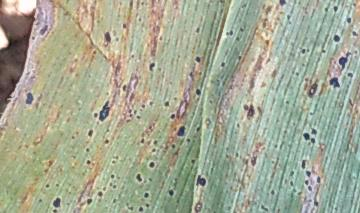tarspot: (99, 101, 111, 120), (339, 50, 350, 70), (327, 76, 341, 89), (196, 173, 206, 187), (247, 103, 255, 120), (25, 92, 33, 106), (39, 25, 49, 36), (103, 31, 112, 43), (176, 125, 185, 137), (134, 172, 144, 182), (259, 203, 269, 213), (52, 197, 61, 208), (332, 34, 341, 43), (193, 54, 201, 63), (346, 70, 354, 79), (167, 188, 175, 197), (109, 158, 117, 167), (87, 128, 94, 138), (332, 3, 339, 13), (302, 132, 310, 140), (309, 137, 317, 145), (312, 200, 320, 208), (147, 161, 155, 169), (169, 113, 177, 121), (85, 197, 93, 205), (96, 190, 104, 198), (121, 83, 128, 92), (225, 30, 234, 37), (149, 62, 155, 72), (310, 126, 317, 134), (194, 88, 201, 96), (163, 100, 170, 108), (194, 26, 201, 34), (351, 30, 358, 38), (135, 15, 142, 23), (278, 1, 287, 7), (144, 190, 150, 199), (220, 59, 226, 68), (301, 159, 306, 169), (91, 111, 98, 118), (121, 22, 128, 29), (84, 158, 91, 165), (300, 47, 307, 54), (195, 125, 202, 132), (69, 134, 76, 141), (242, 103, 249, 110), (346, 16, 352, 24), (316, 176, 322, 184), (135, 113, 141, 121), (186, 136, 192, 144), (190, 157, 196, 165), (285, 13, 291, 21), (30, 35, 37, 41), (54, 181, 60, 188), (103, 138, 110, 144), (306, 170, 312, 177), (138, 206, 144, 213), (84, 146, 90, 153), (139, 137, 145, 144), (150, 147, 157, 153), (152, 139, 158, 146), (324, 6, 330, 13), (289, 169, 295, 176), (294, 70, 300, 77), (129, 52, 135, 59), (91, 49, 97, 56), (289, 179, 294, 187), (52, 207, 58, 213), (145, 202, 151, 208), (140, 102, 146, 108), (129, 206, 135, 212), (237, 55, 243, 61), (353, 49, 359, 55), (45, 182, 50, 189), (320, 49, 327, 54), (271, 189, 276, 196), (38, 197, 43, 203), (304, 179, 309, 185), (110, 173, 115, 179), (107, 182, 113, 187), (112, 197, 117, 203), (240, 27, 245, 33), (148, 176, 153, 182), (284, 100, 290, 105), (113, 183, 117, 190), (172, 142, 176, 149), (308, 186, 312, 192), (149, 100, 153, 106)
